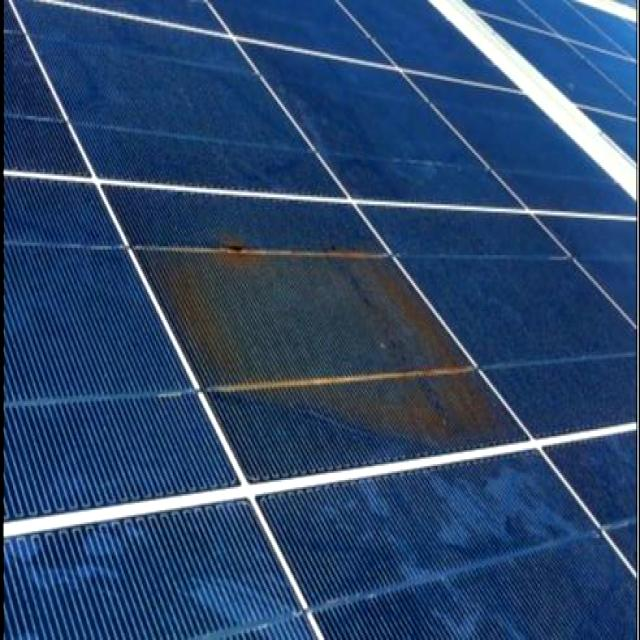shadow: (134, 203, 515, 456)
